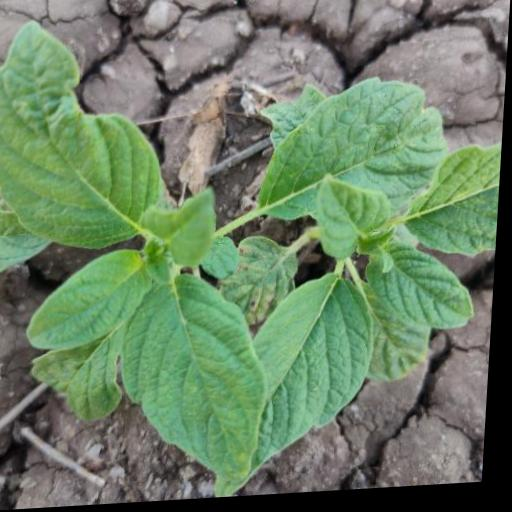crop: (0, 6, 511, 508)
